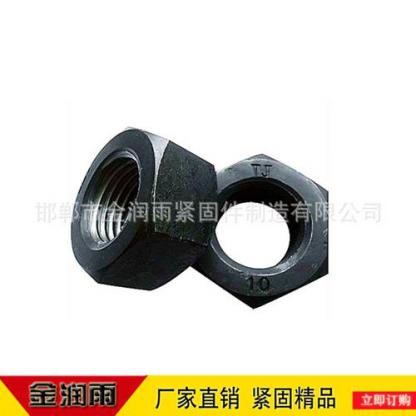FOD: (67, 122, 220, 292), (178, 154, 331, 313)
